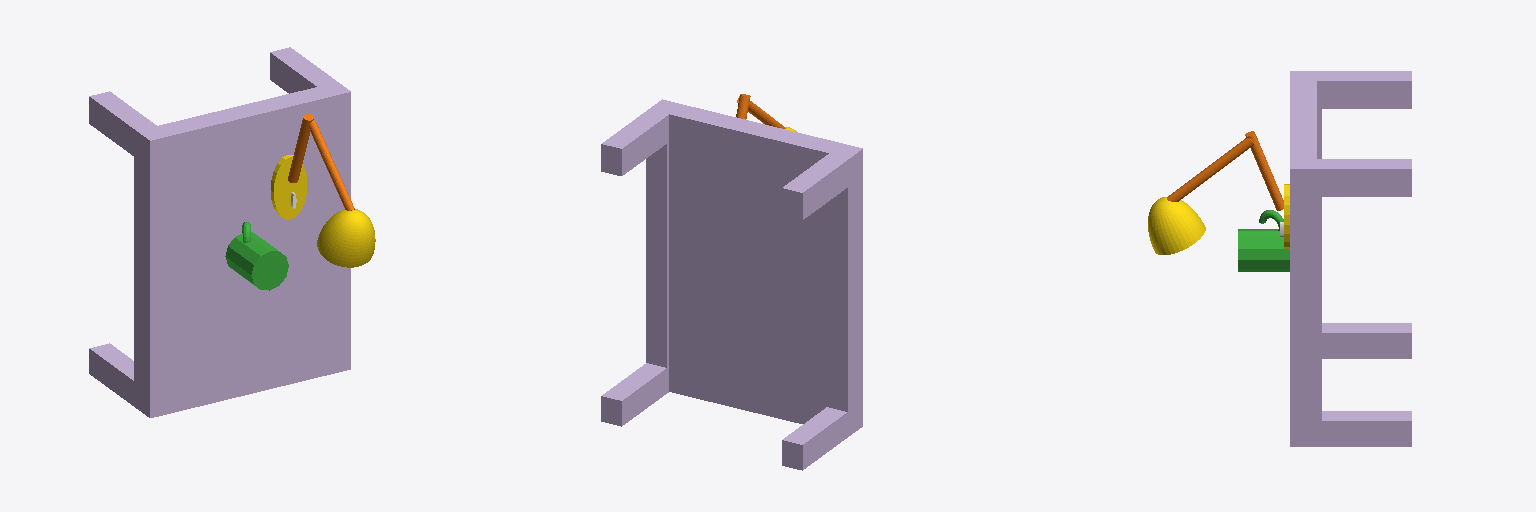
The model's file is tinker.obj.
The picture shows the model from 3 angles: view 1: azimuth 30°, elevation 25°; view 2: azimuth 150°, elevation 25°; view 3: azimuth 270°, elevation 25°; orthographic projection.
Visible parts, largest first — view 1: obj_0; view 2: obj_0; view 3: obj_0.
Part boxes in pixels (left/top/right/bottom): obj_0: left=89, top=47, right=375, bottom=417; obj_0: left=601, top=94, right=862, bottom=470; obj_0: left=1148, top=71, right=1411, bottom=446.
Bounding box in the file's own units: 107 × 144 × 122.